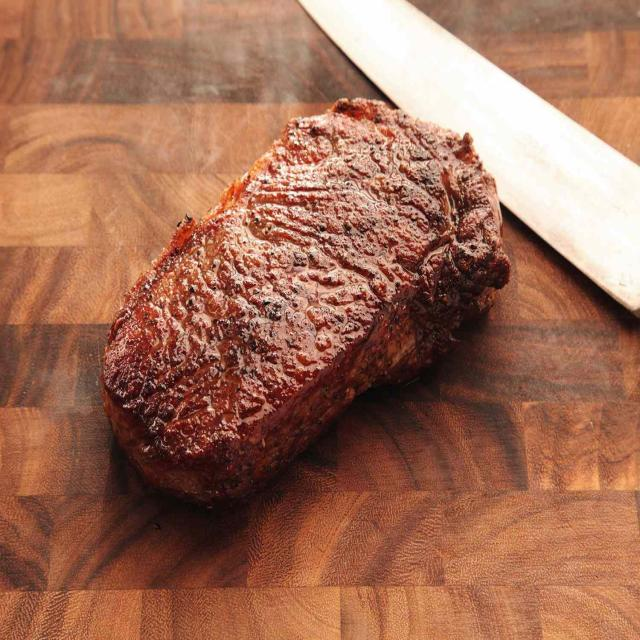Carne: (100, 94, 511, 510)
